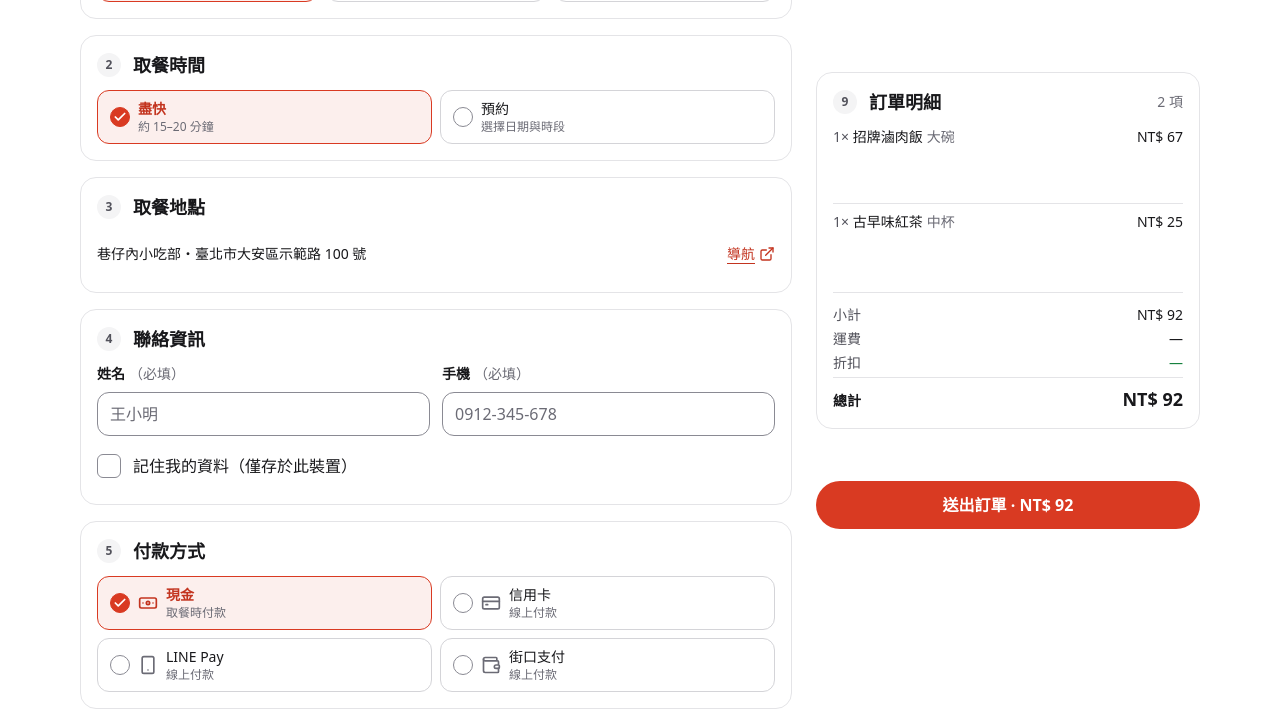
Test: 表單驗證（03 §8.3） › 欄位離開焦點（blur）時驗證格式：手機
The width and height of the screenshot is (1280, 720).
(page scrolled)
Type "0812345678" into the field labelled "手機（必填）" at (608, 414), box x1=442 y1=392 x2=775 y2=436
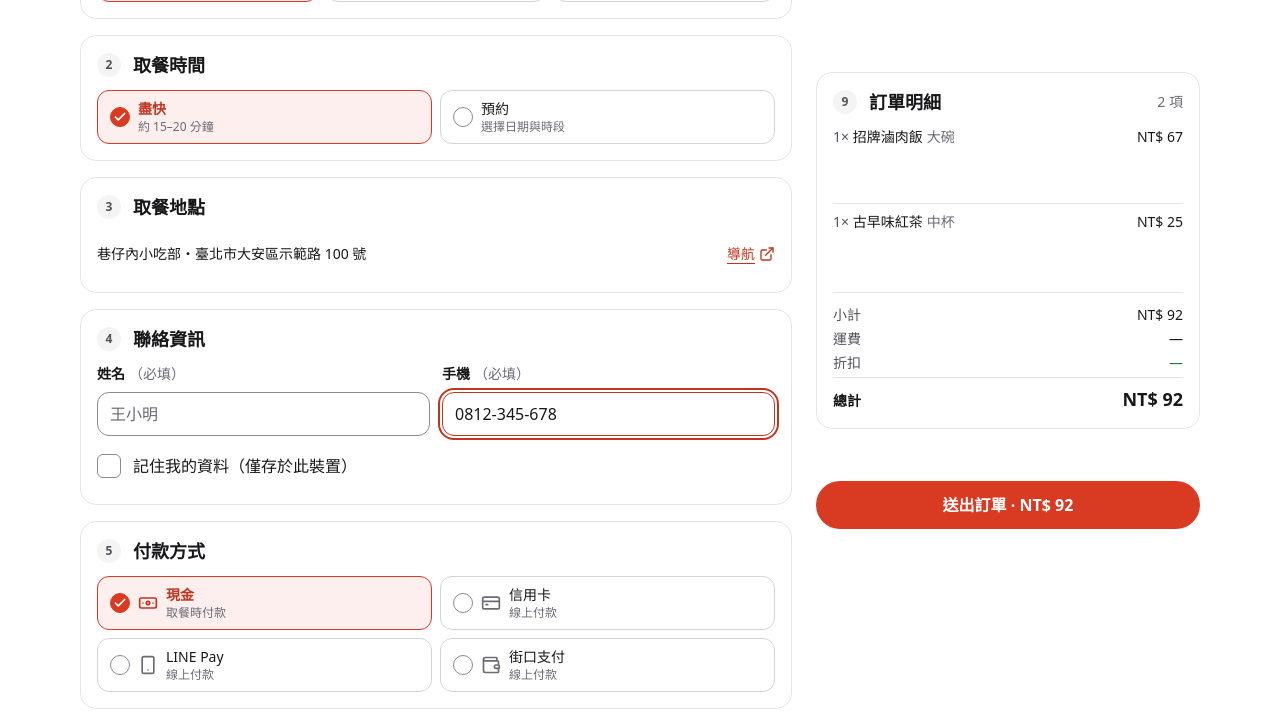
Press Tab
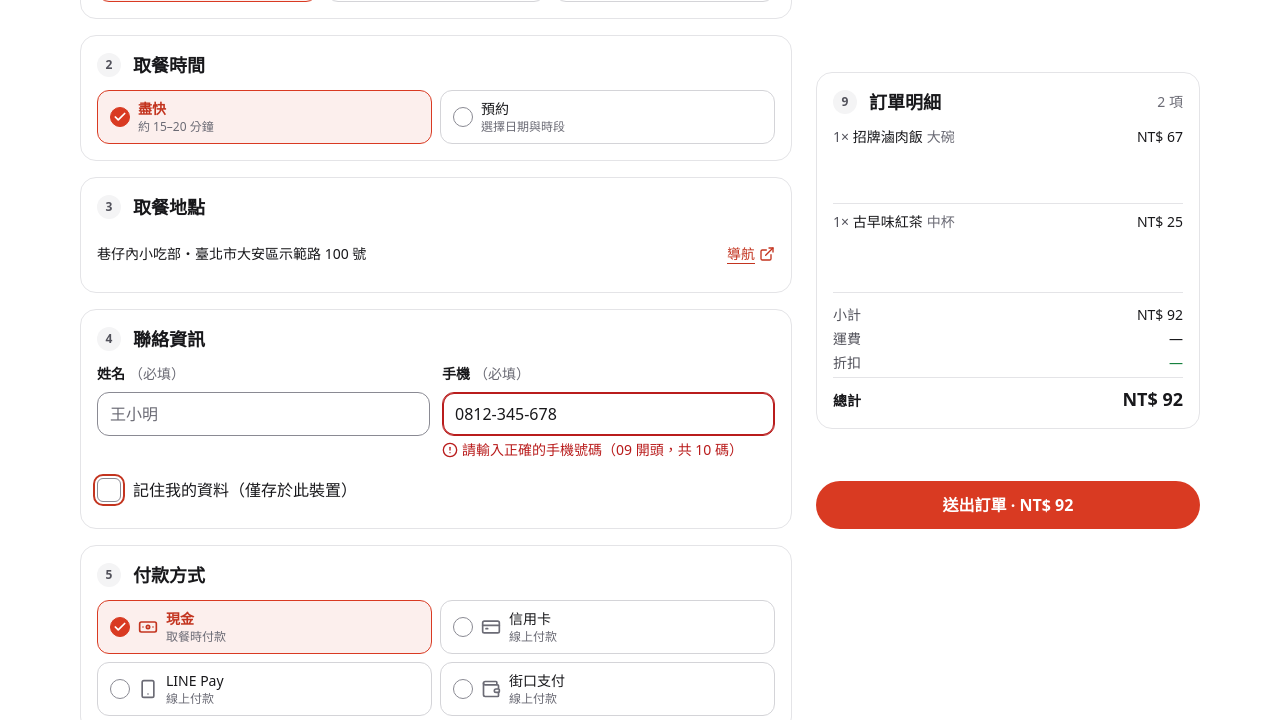
Expected: the text "請輸入正確的手機號碼（09 開頭，共 10 碼）" is shown, x1=462 y1=440 x2=743 y2=460
